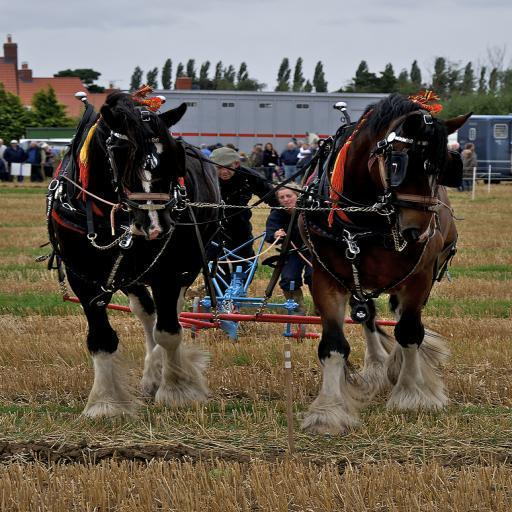horse: (294, 89, 472, 435), (44, 88, 220, 418)
